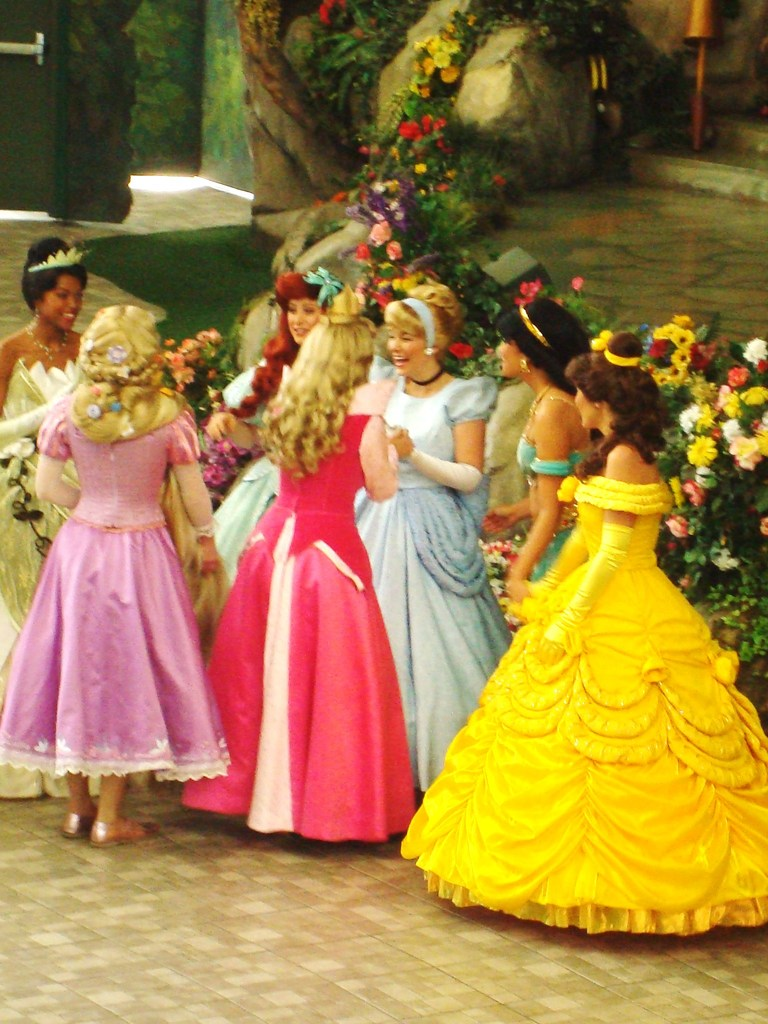person: (481, 294, 596, 604)
